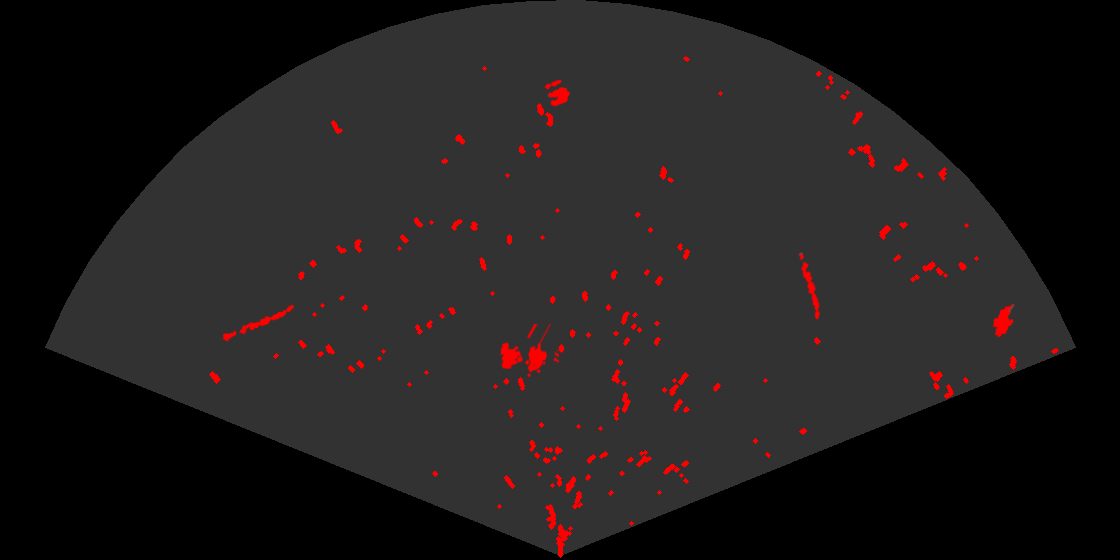AUV: (991, 302, 1015, 339)
ball: (543, 78, 572, 108)
cage: (499, 324, 559, 379)
chain: (219, 303, 296, 343), (797, 252, 822, 322)
